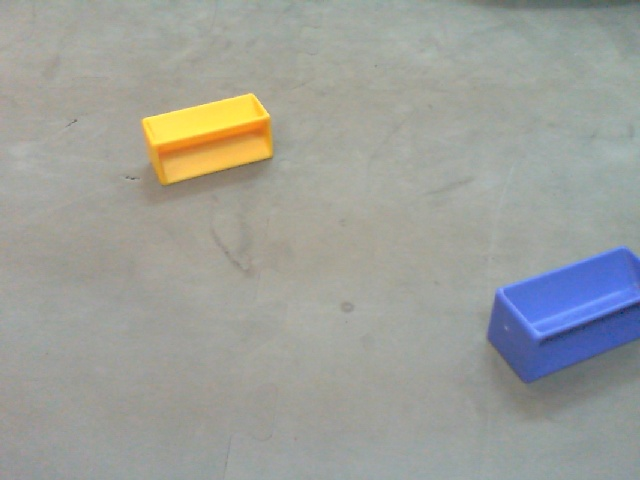BlueSample: (486, 243, 640, 384)
YellowSample: (134, 90, 283, 186)
